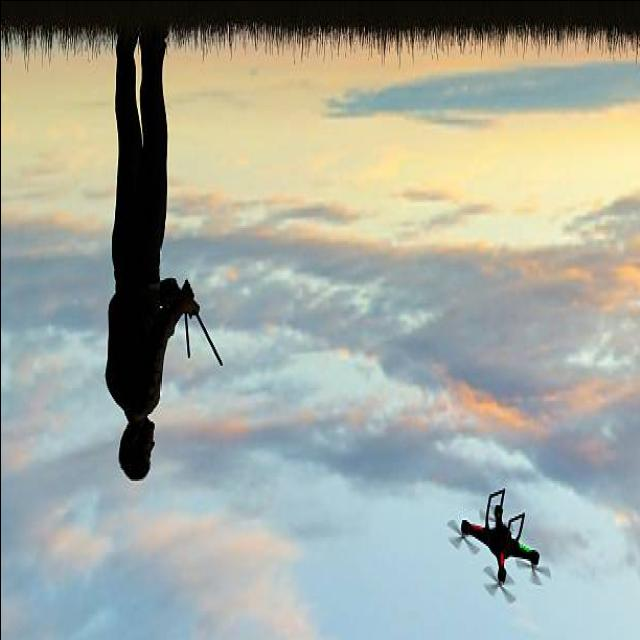drone: (447, 488, 551, 604)
